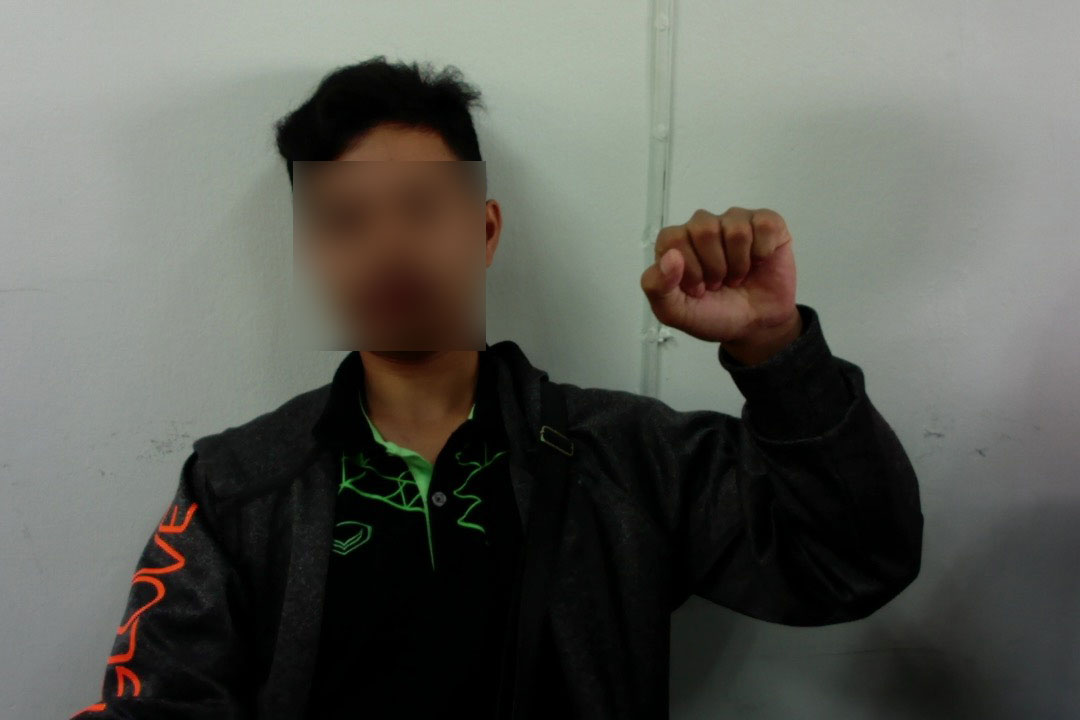or: (629, 200, 812, 355)
